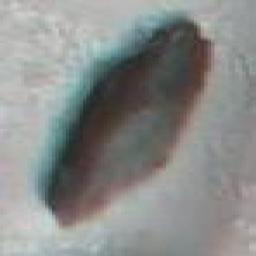crystals: (32, 22, 220, 232)
